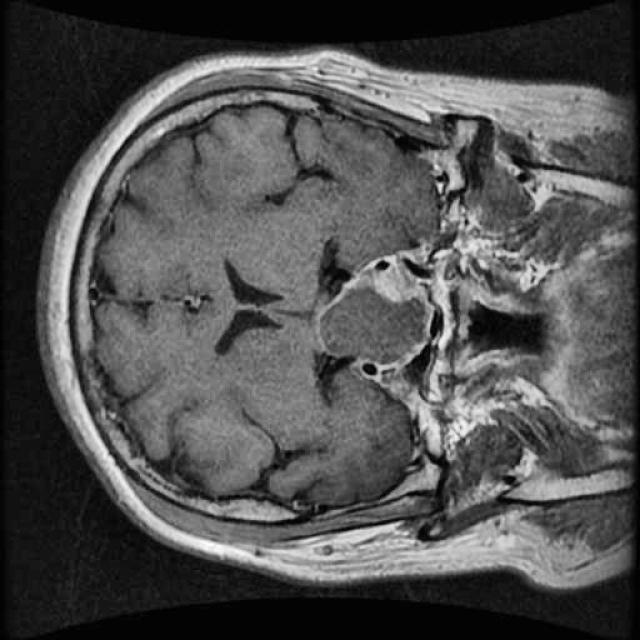Tumor: (300, 250, 436, 369)
